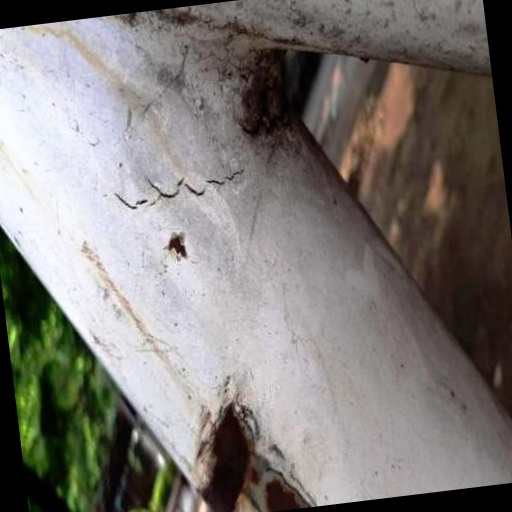crack: (94, 157, 256, 221)
